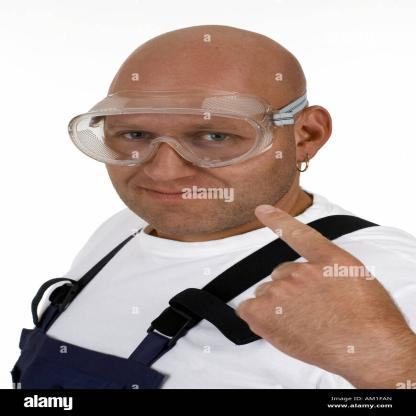oculos: (70, 98, 272, 168)
